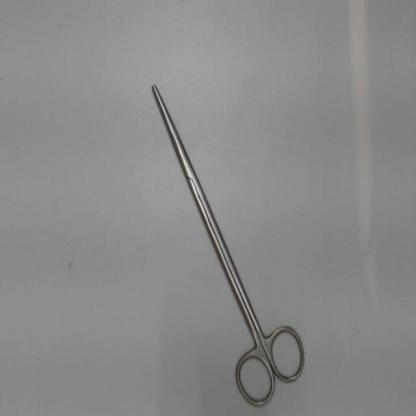9 Metzenbaum Scissors: (146, 75, 312, 414)
